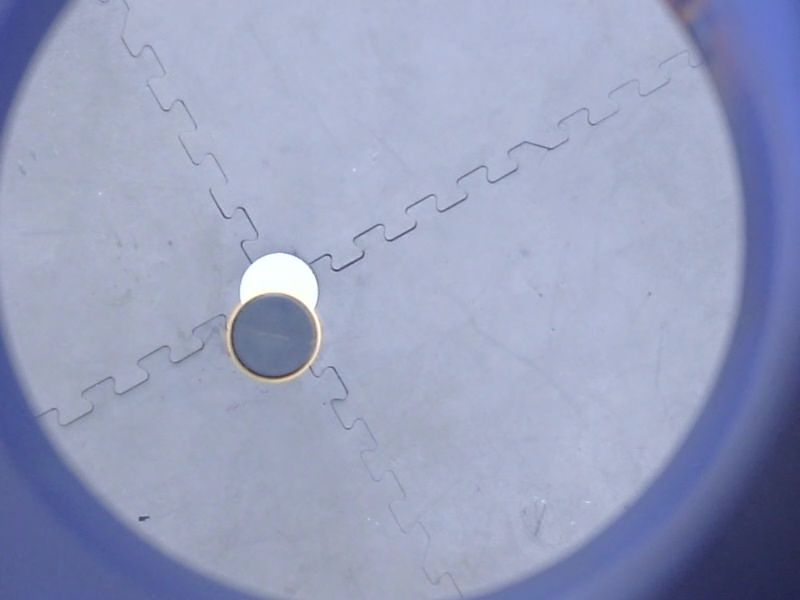tip: (220, 287, 325, 388)
